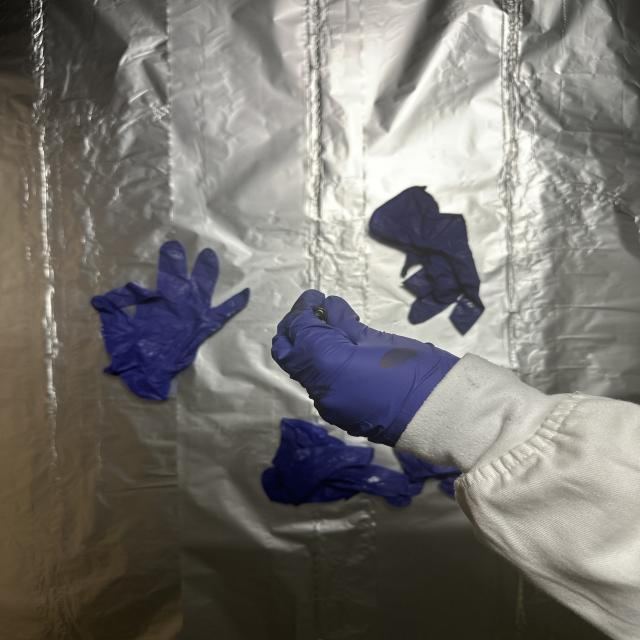gloves_contaminated: (272, 290, 459, 446)
